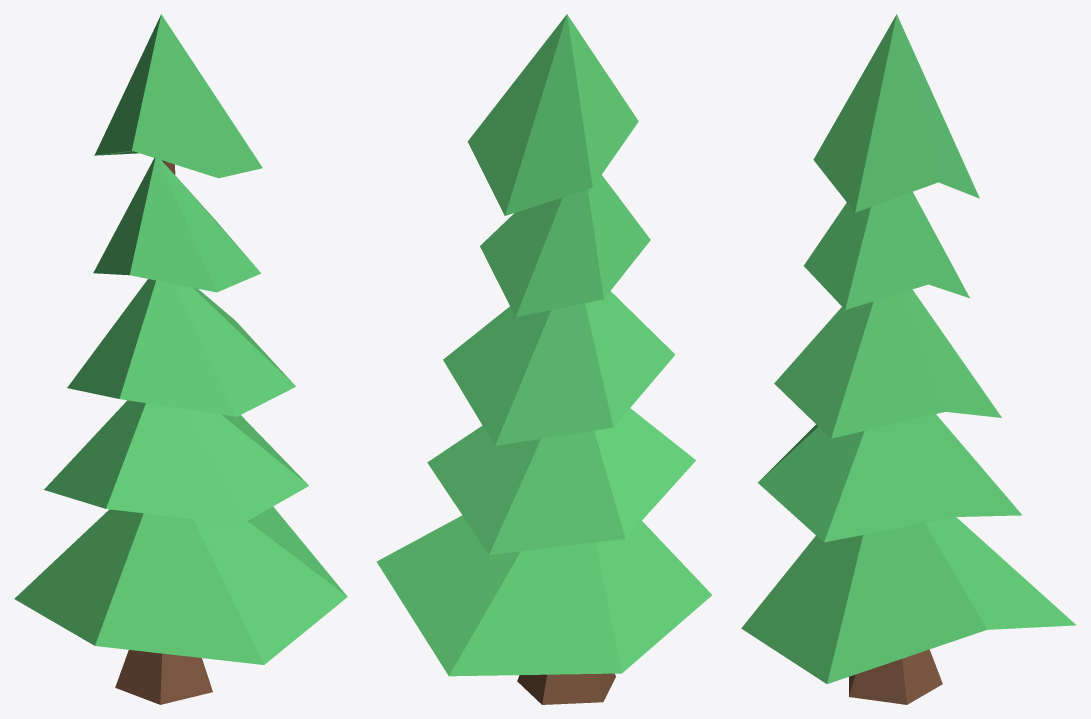
The model's file is pine_tree.fbx.
3 views of the same model, side by side, from view 1: azimuth 30°, elevation 25°; view 2: azimuth 150°, elevation 25°; view 3: azimuth 270°, elevation 25° (orthographic).
Visible parts, largest first — view 1: tree_pine; view 2: tree_pine; view 3: tree_pine.
Boxes of the visible parts, box(x1,y1,x2,y2) form: tree_pine: box(14, 14, 347, 704); tree_pine: box(376, 14, 711, 704); tree_pine: box(741, 14, 1076, 704).
Bounding box in the file's own units: 237 × 588 × 267.
